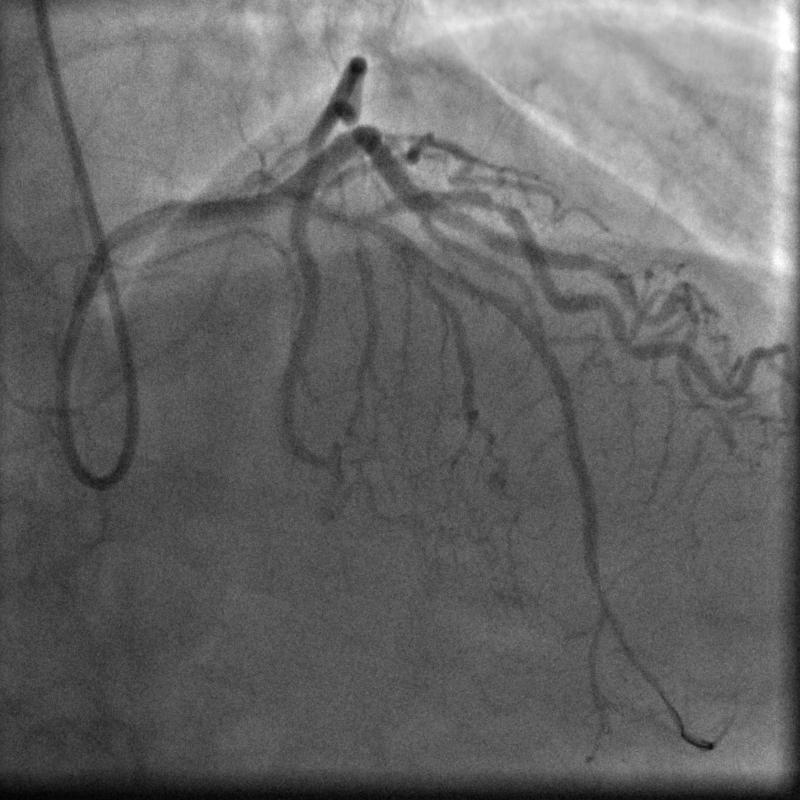Stenosis: (476, 185, 510, 225)
